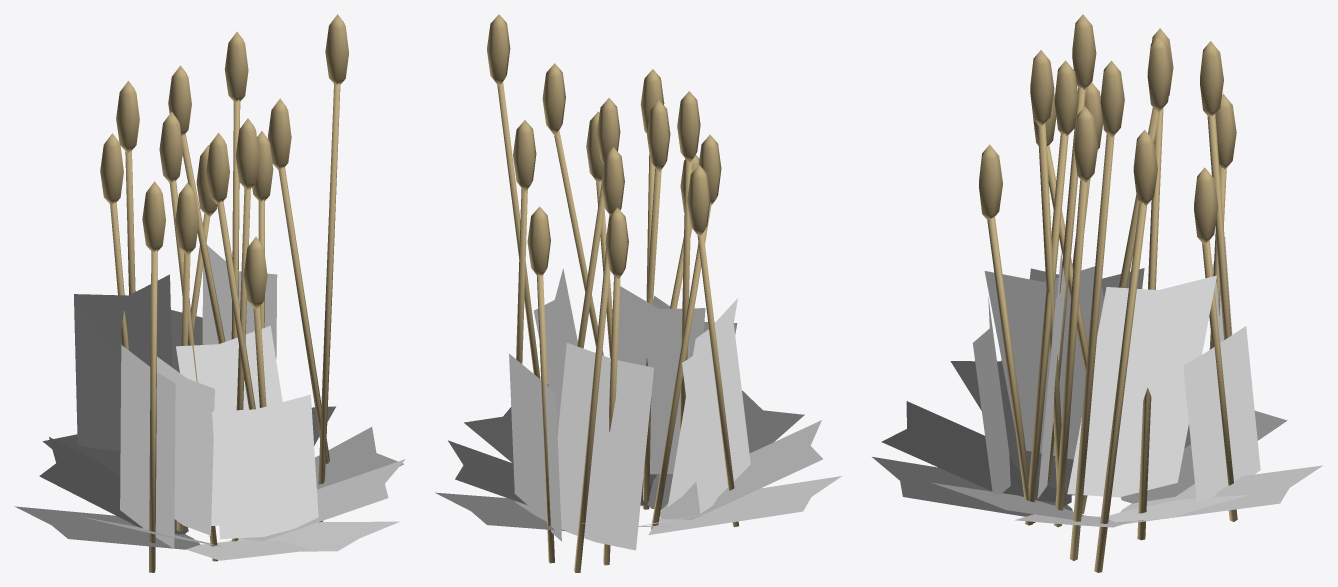
File: tall_weeds.glb
The picture shows the model from 3 angles, left to right: view 1: azimuth 30°, elevation 25°; view 2: azimuth 150°, elevation 25°; view 3: azimuth 270°, elevation 25°; orthographic projection. The views are drawn at different scales.
Parts seen in each view (by area): view 1: tall_weeds; view 2: tall_weeds; view 3: tall_weeds.
Part boxes in pixels (box(x1,y1,x2,y2)): tall_weeds: box(14, 14, 405, 572); tall_weeds: box(435, 14, 841, 572); tall_weeds: box(872, 14, 1322, 572).
Bounding box in the file's own units: 1.29 × 1.71 × 1.35.
